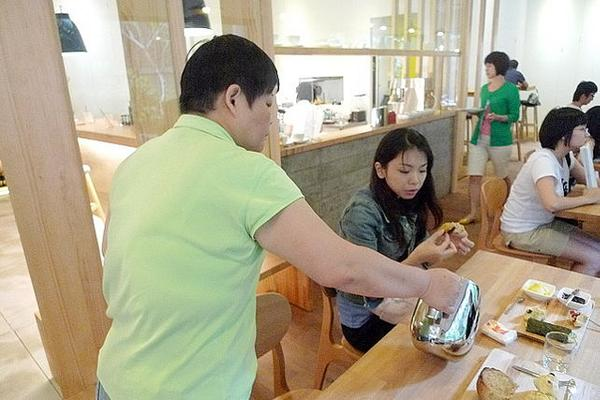person: (96, 34, 464, 400)
